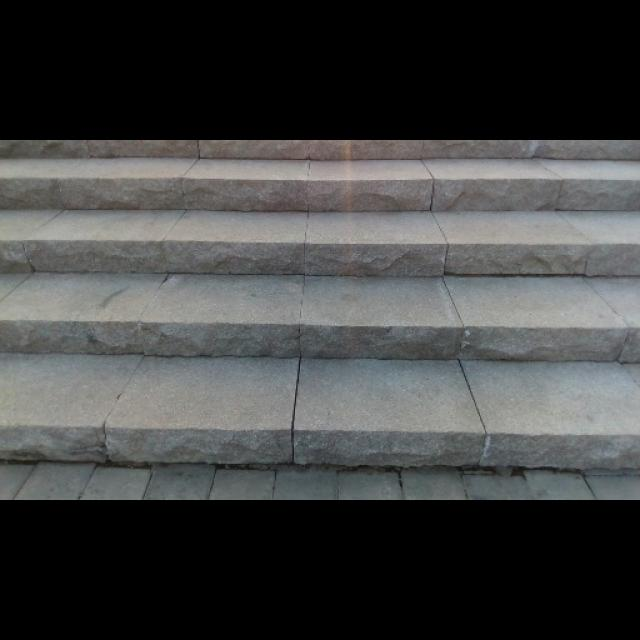Stairs: (0, 142, 639, 484)
